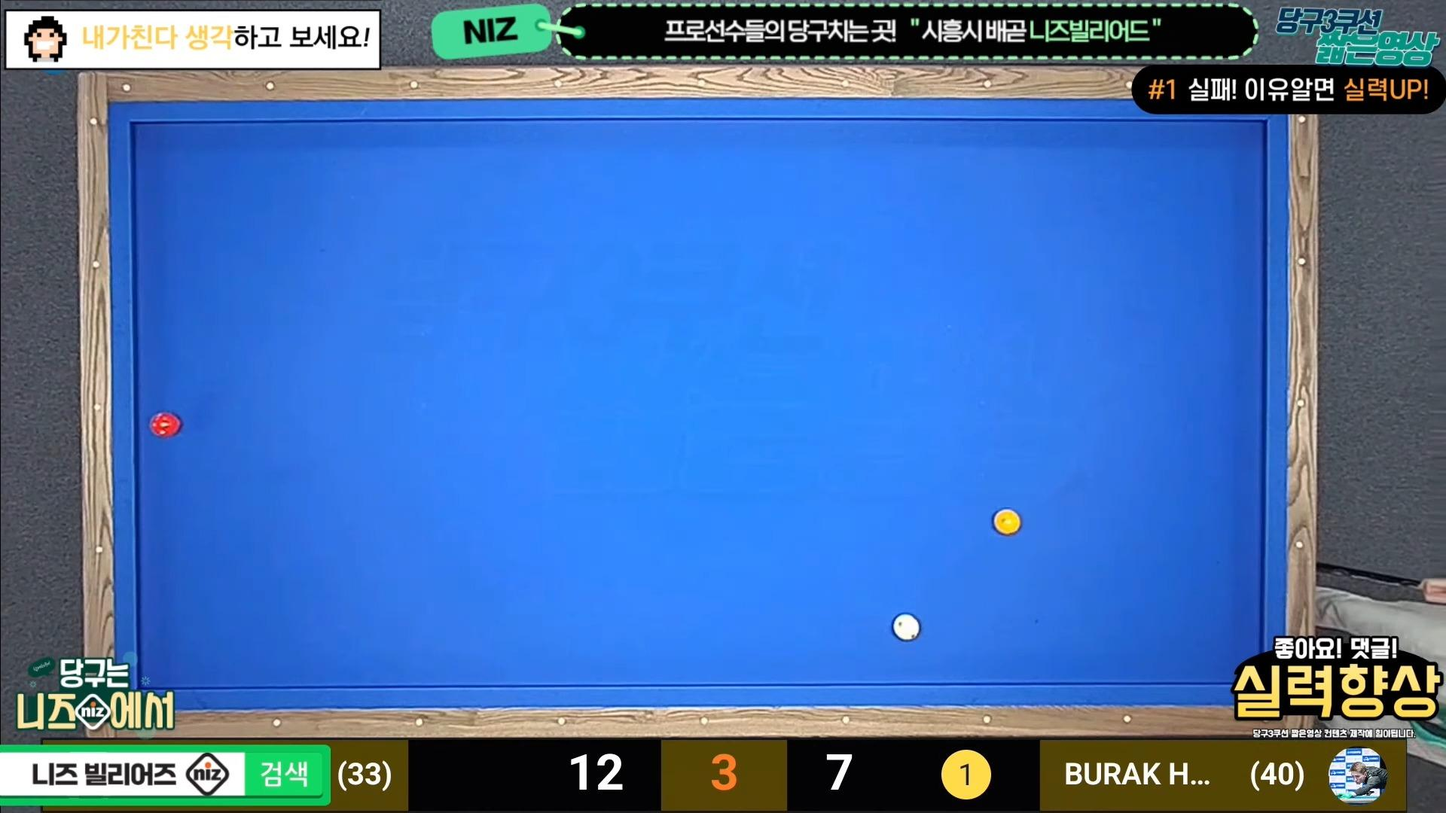-billiard-ball: (890, 612, 920, 641), (992, 507, 1021, 536)
Red: (149, 411, 185, 437)
White: (889, 614, 922, 642)
Yellow: (994, 508, 1028, 535)
